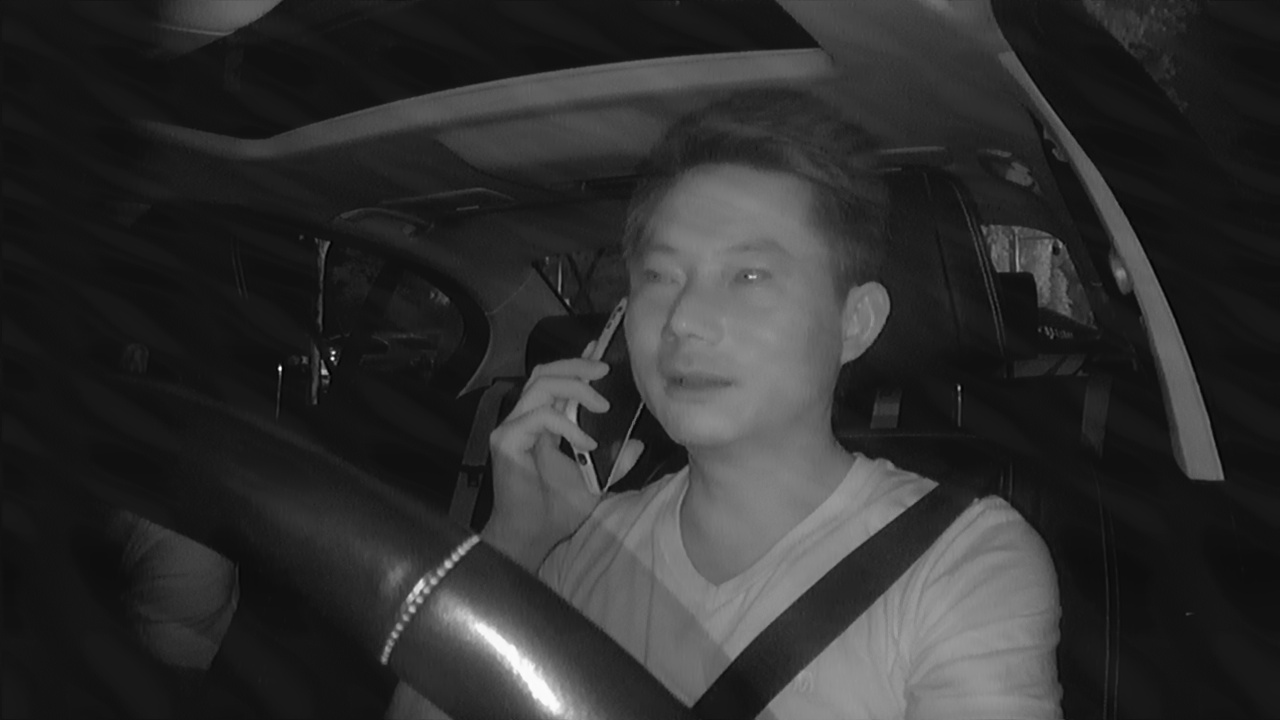hand: (480, 340, 643, 538)
